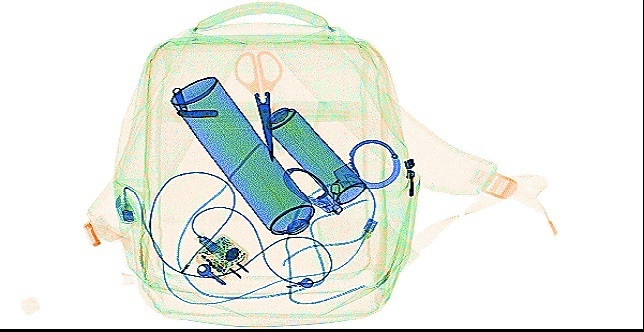handcuffs: (279, 135, 399, 214)
pressure: (169, 74, 316, 237), (261, 104, 364, 204)
scissors: (230, 48, 283, 162)
